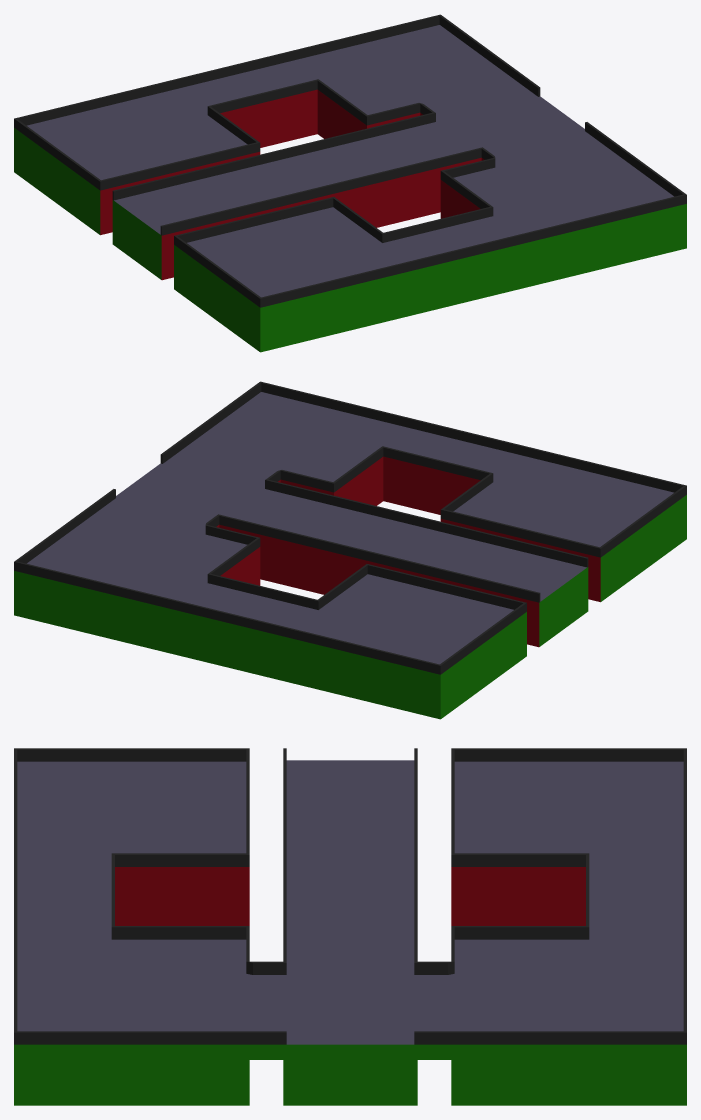
File: RunAround.fbx
3 renders of one model, top to bottom at view 1: azimuth 30°, elevation 25°; view 2: azimuth 150°, elevation 25°; view 3: azimuth 270°, elevation 25°, orthographic. The views are drawn at different scales.
Visible parts, largest first — view 1: Cube; view 2: Cube; view 3: Cube.
Part boxes in pixels (left/top/right/bottom): Cube: left=14, top=14, right=686, bottom=352; Cube: left=14, top=381, right=686, bottom=719; Cube: left=14, top=748, right=686, bottom=1105.
Size of the model in its own units: 10000 by 1200 by 10000.
